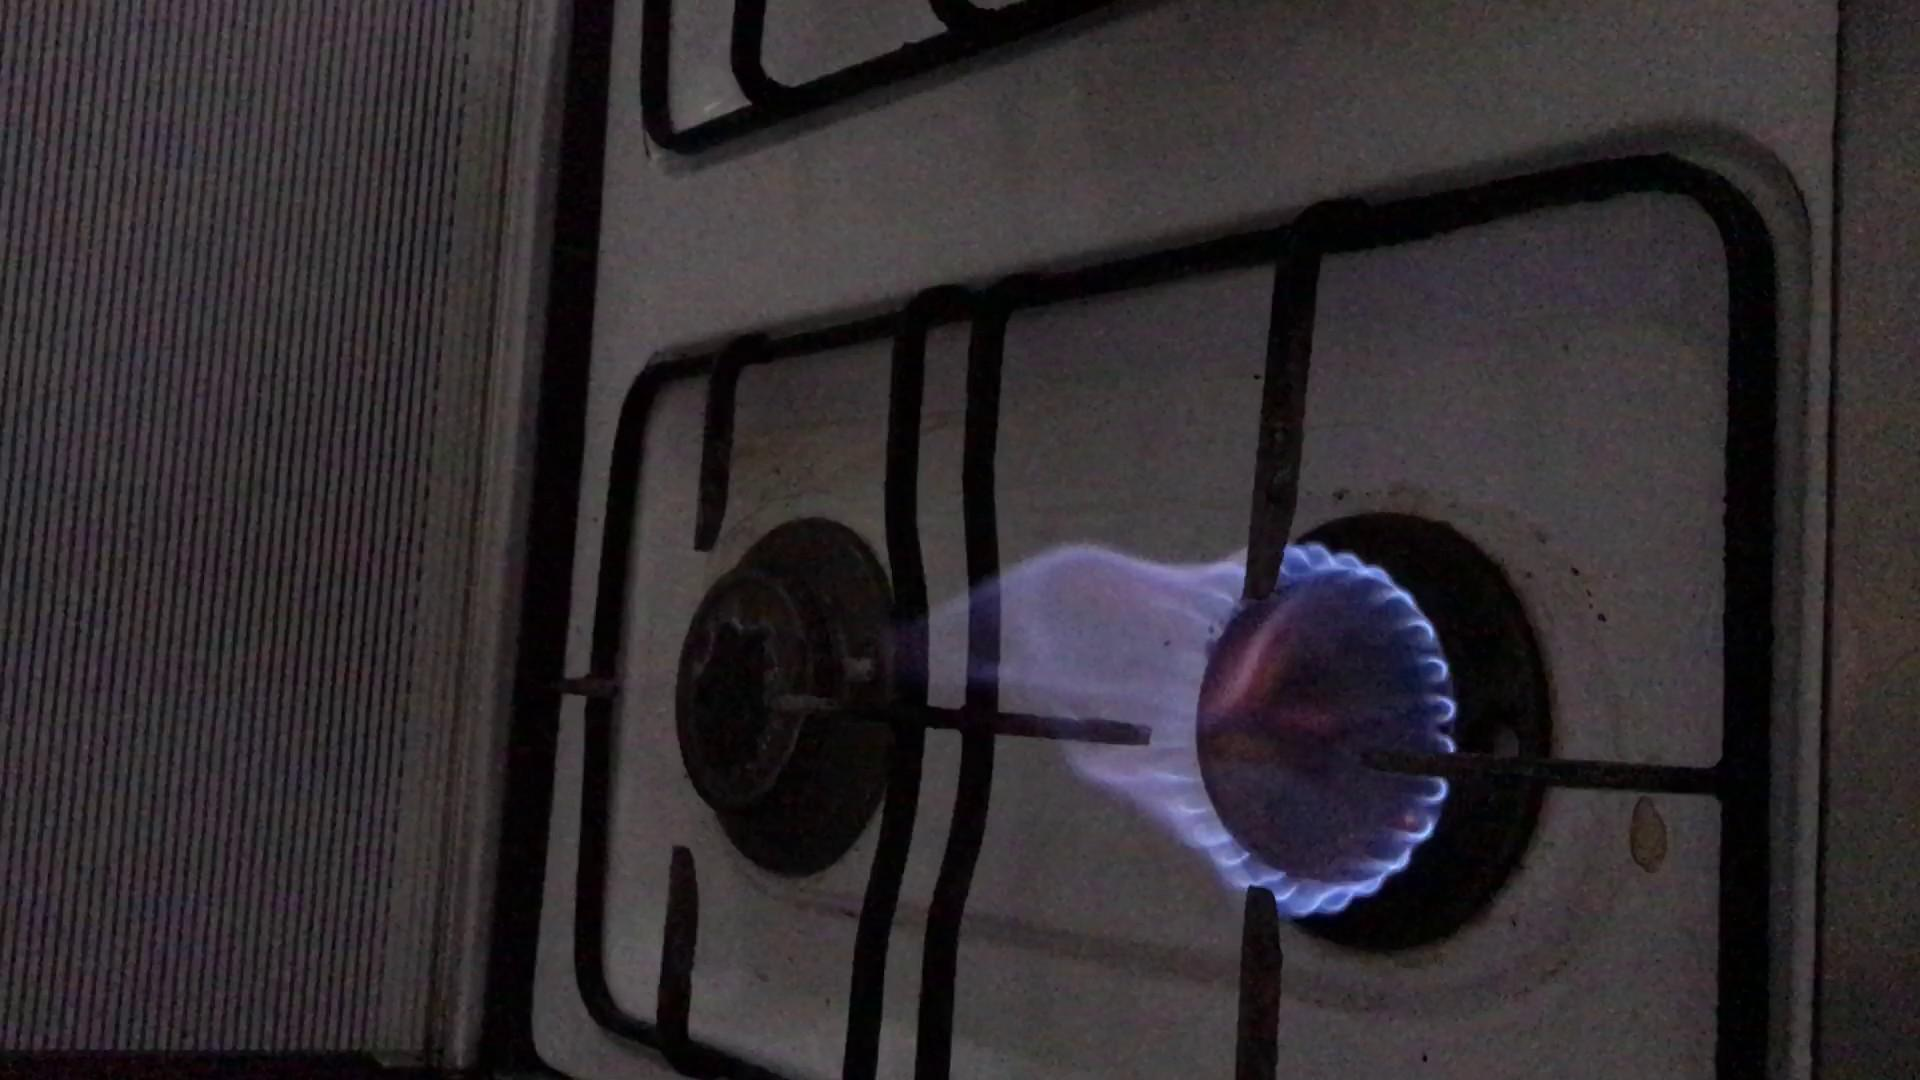fire: (876, 564, 1440, 882)
